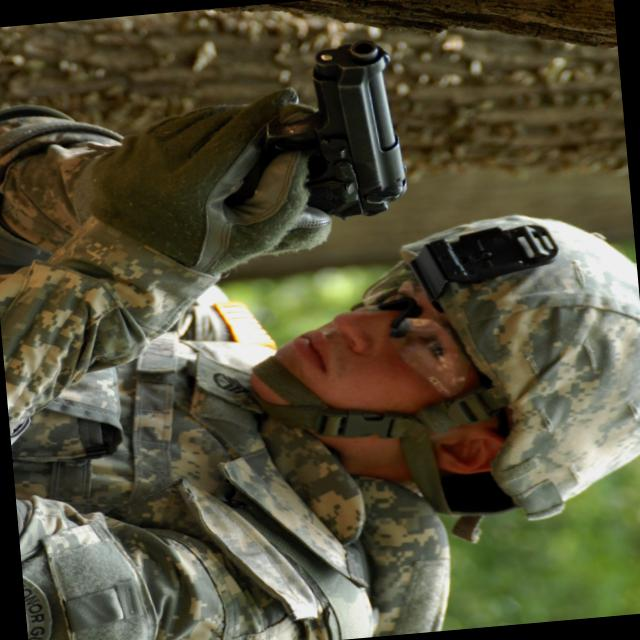handgun: (214, 36, 419, 238)
